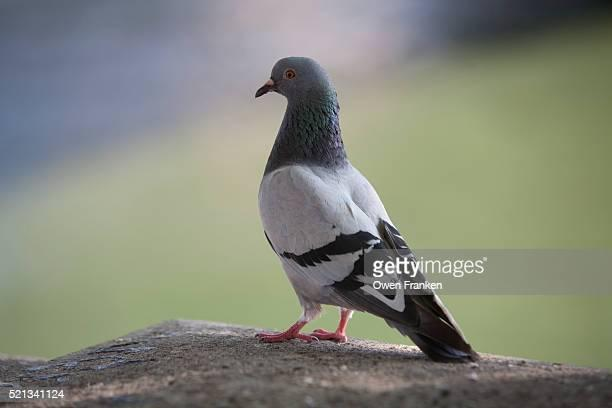Flying Rat: (243, 53, 465, 361)
